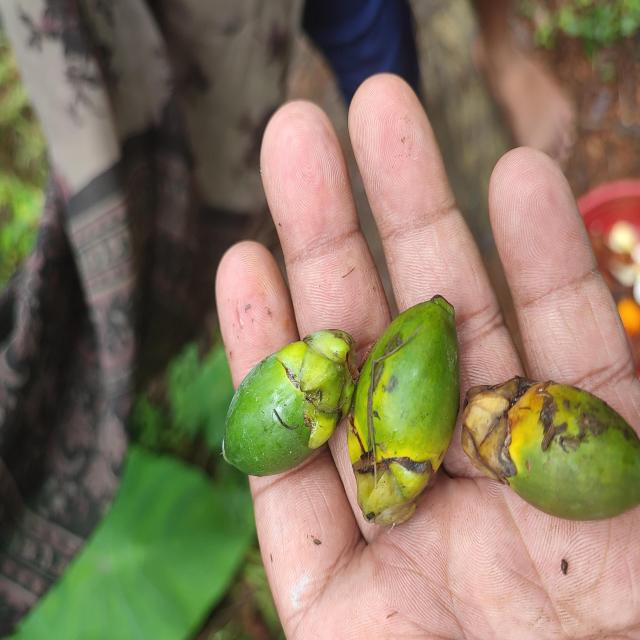damaged: (347, 297, 461, 531), (460, 378, 640, 524), (222, 331, 355, 479)
